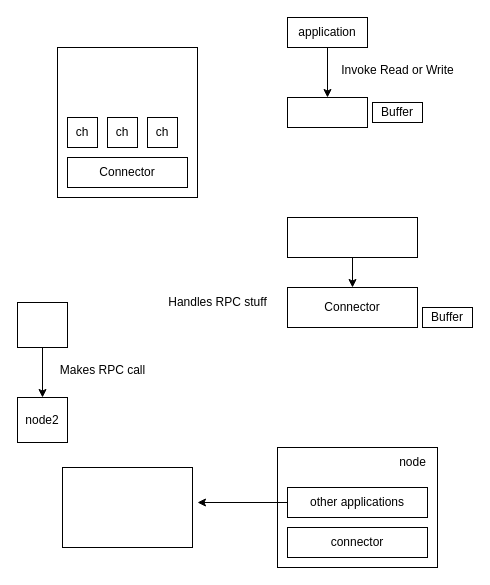
Image size: 490x585. Some labels were removed from this diagram. Here are the shapes that lost their labels. From the top down, the centre of each, then its label:
At point 327,112: "tcp".
At point 352,237: "Mux".
At point 42,325: "node1".
At point 127,507: "1. must have RPCMethod() and 2. the corresponding RPCMethodCaller()".
